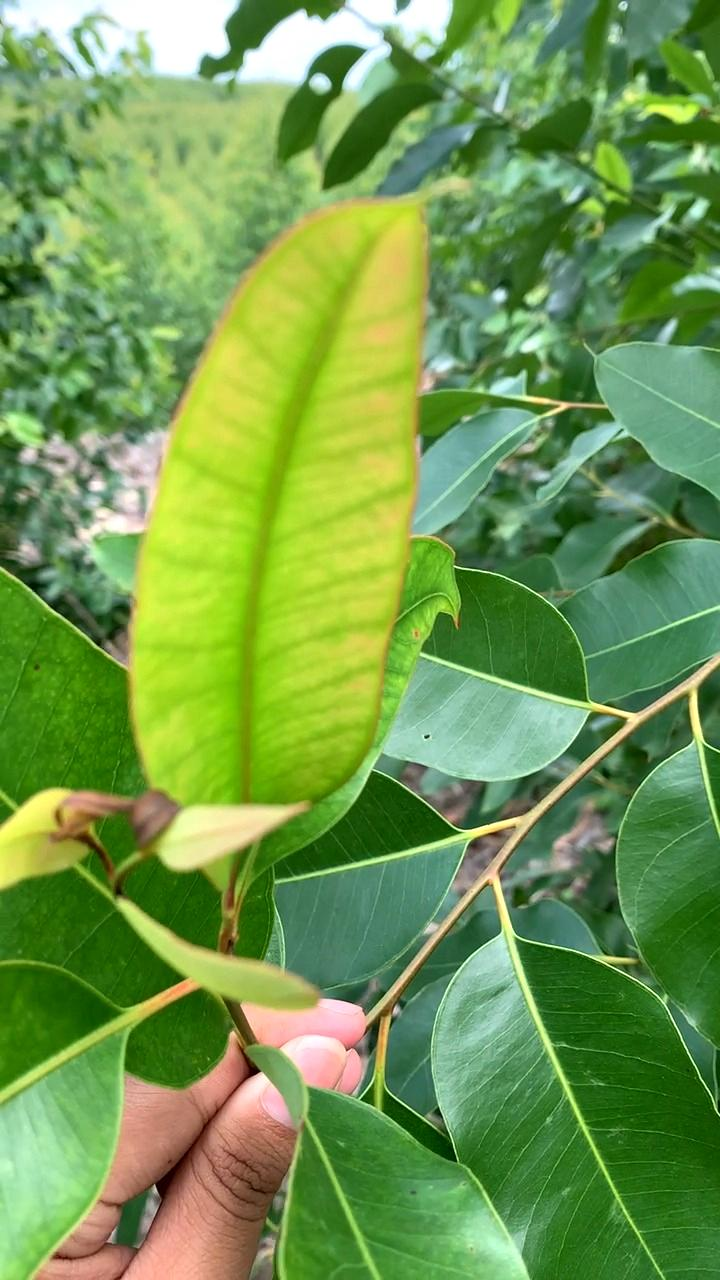Helopeltis-Withered Sprout: (45, 767, 180, 874)
